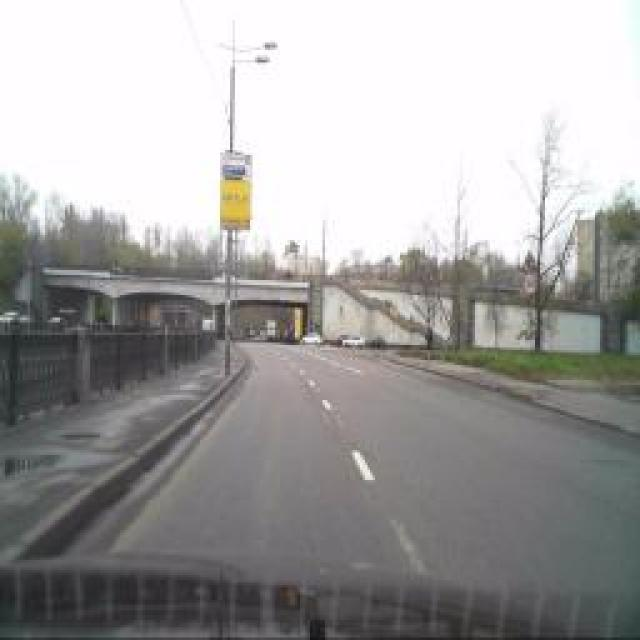sign: (522, 271, 538, 294)
